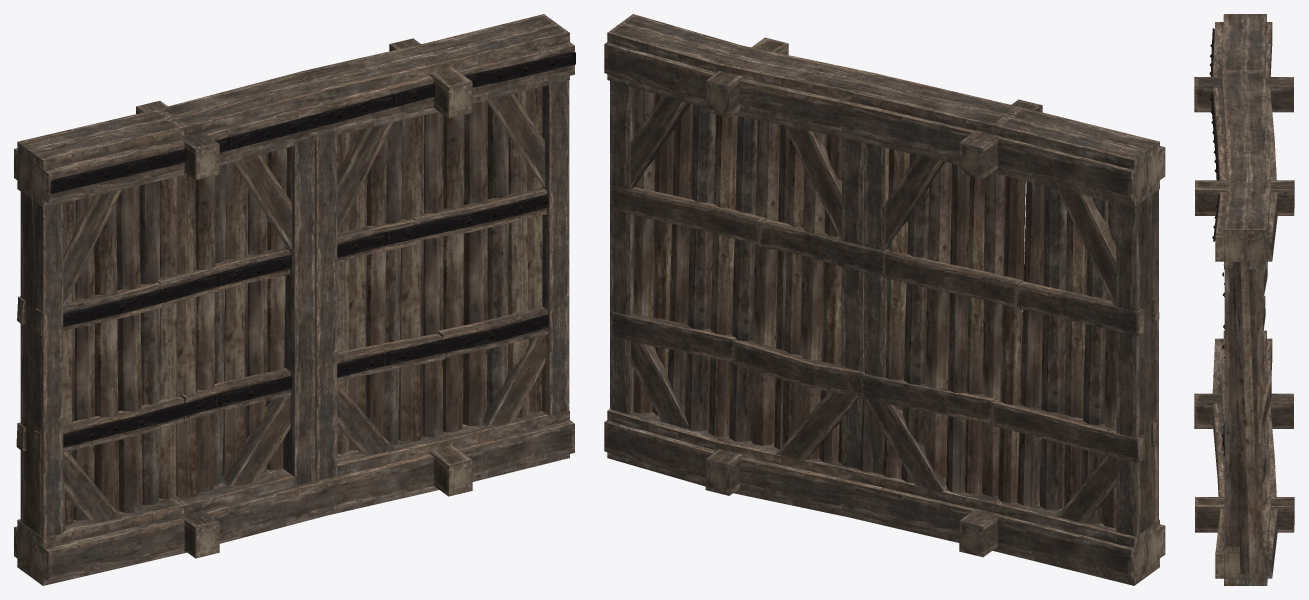
Rendered from jav_struc_def_truestone_walla_toponly-transformed.glb.
3 renders of one model, left to right at view 1: azimuth 30°, elevation 25°; view 2: azimuth 150°, elevation 25°; view 3: azimuth 270°, elevation 25°, orthographic. The views are drawn at different scales.
Parts seen in each view (by area): view 1: default; view 2: default; view 3: default.
Boxes of the visible parts, bbox=[...] form: default: bbox=[14, 14, 575, 585]; default: bbox=[604, 14, 1165, 585]; default: bbox=[1194, 14, 1294, 585].
Bounding box in the file's own units: 8.2 × 6.26 × 1.58.
Materials: 1 (1 with a texture image).
